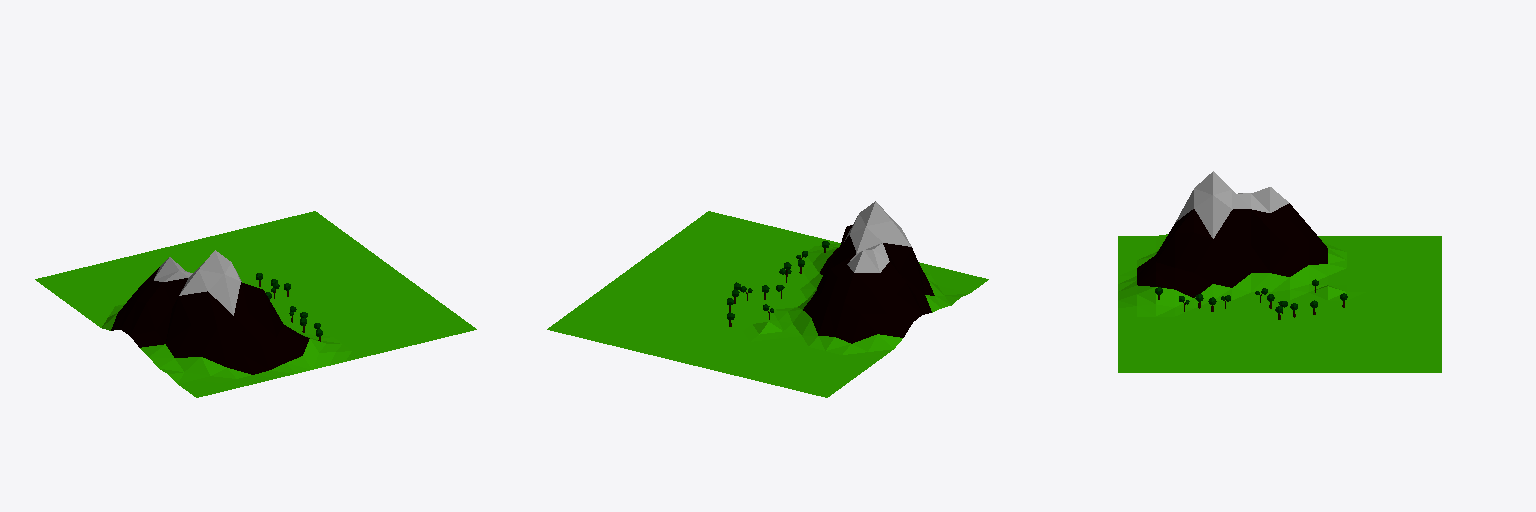
The model's file is mountain.obj.
3 views of the same model, side by side, from view 1: azimuth 30°, elevation 25°; view 2: azimuth 150°, elevation 25°; view 3: azimuth 270°, elevation 25° (orthographic).
Visible parts, largest first — view 1: 平面; view 2: 平面; view 3: 平面.
Part boxes in pixels (left/top/right/bottom): 平面: left=35, top=211, right=476, bottom=397; 平面: left=547, top=201, right=988, bottom=397; 平面: left=1118, top=171, right=1441, bottom=372.
Size of the model in its own units: 16 by 5.3 by 16.